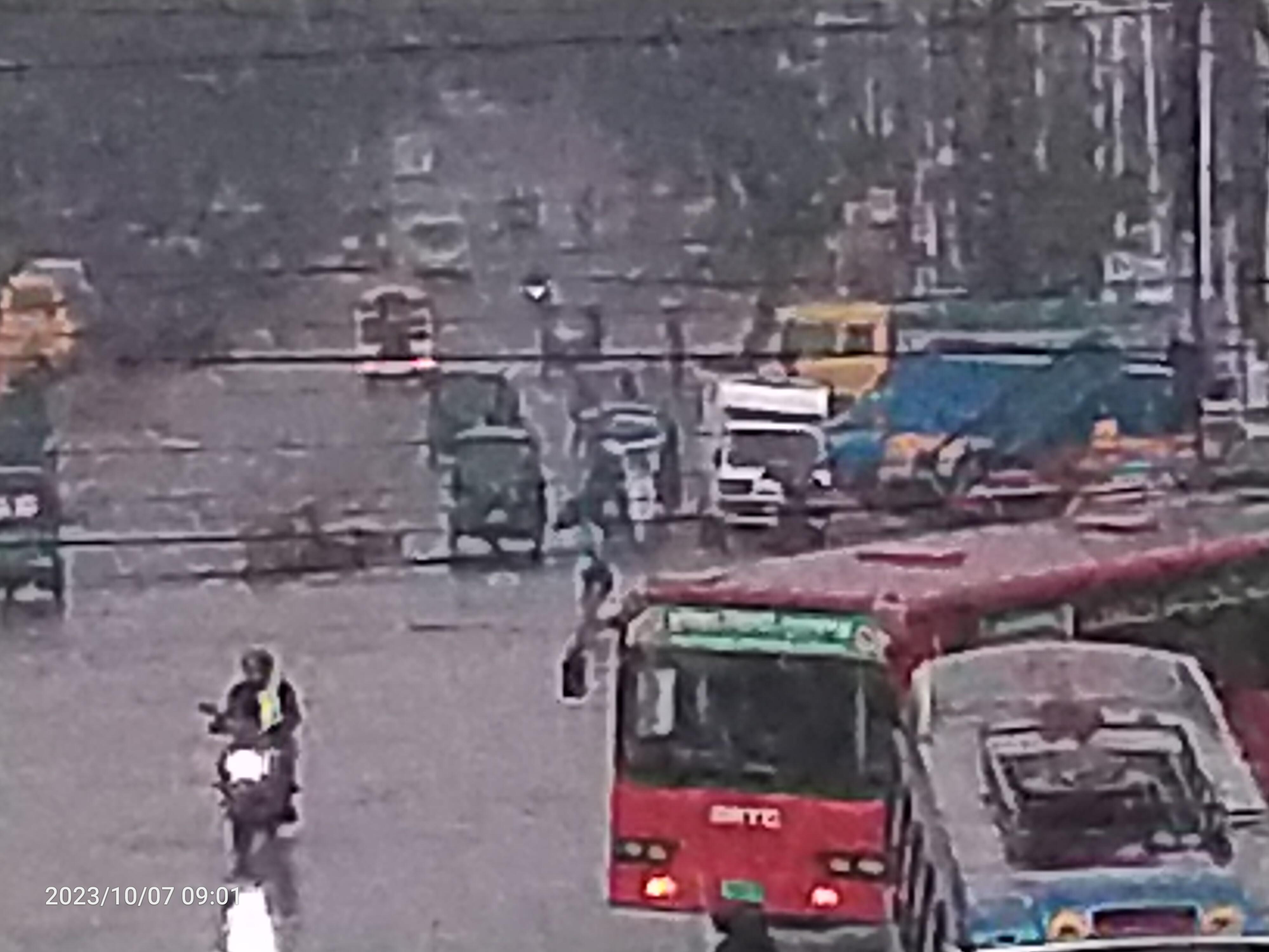Bike: (159, 625, 334, 891)
Bus: (523, 452, 1269, 932), (867, 630, 1269, 952)
Car: (678, 352, 869, 551), (276, 272, 473, 406)
